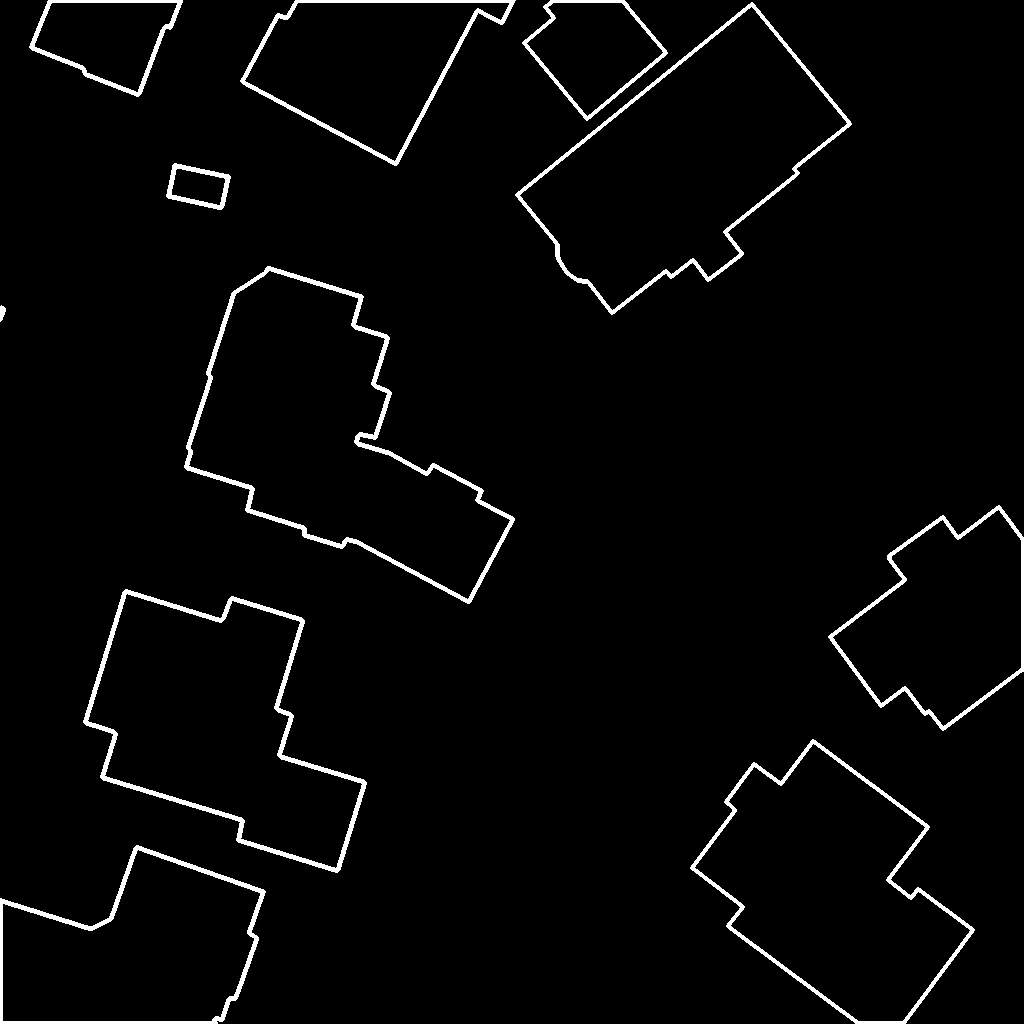building: (186, 268, 514, 603), (517, 4, 851, 314), (692, 741, 974, 1024), (85, 591, 366, 872), (0, 847, 265, 1024), (242, 0, 515, 165), (830, 507, 1024, 730), (524, 0, 667, 120), (31, 0, 182, 96), (168, 165, 230, 209), (0, 307, 5, 322), (655, 1022, 659, 1024)
